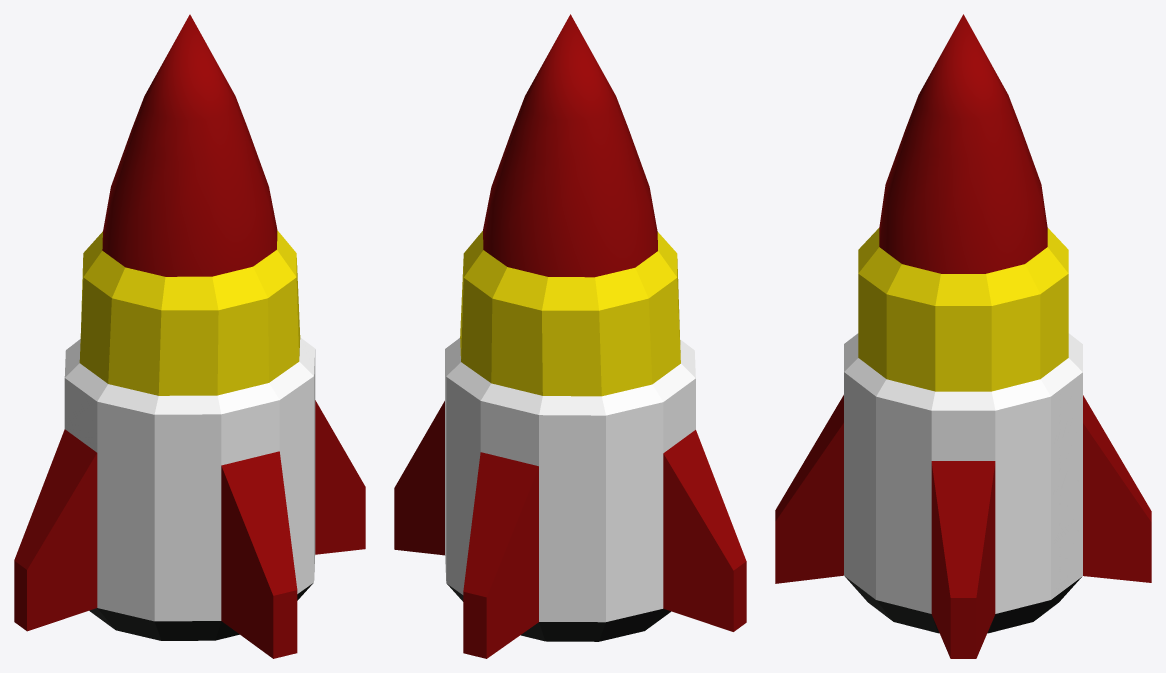
The picture shows the model from 3 angles, left to right: view 1: azimuth 30°, elevation 25°; view 2: azimuth 150°, elevation 25°; view 3: azimuth 270°, elevation 25°; orthographic projection.
Visible parts, largest first — view 1: Cylinder001; view 2: Cylinder001; view 3: Cylinder001.
Boxes of the visible parts, box(x1,y1,x2,y2) form: Cylinder001: box(14, 14, 365, 658); Cylinder001: box(394, 14, 746, 658); Cylinder001: box(775, 14, 1151, 658).
Size of the model in its own units: 84.21 by 139 by 82.17.
